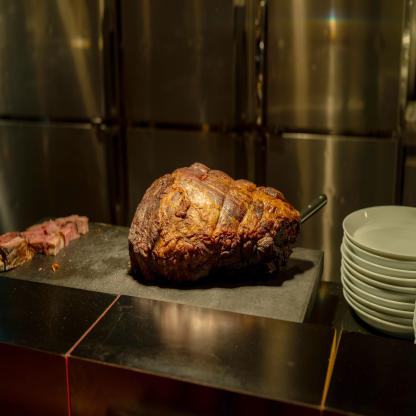Carne: (128, 161, 298, 266)
